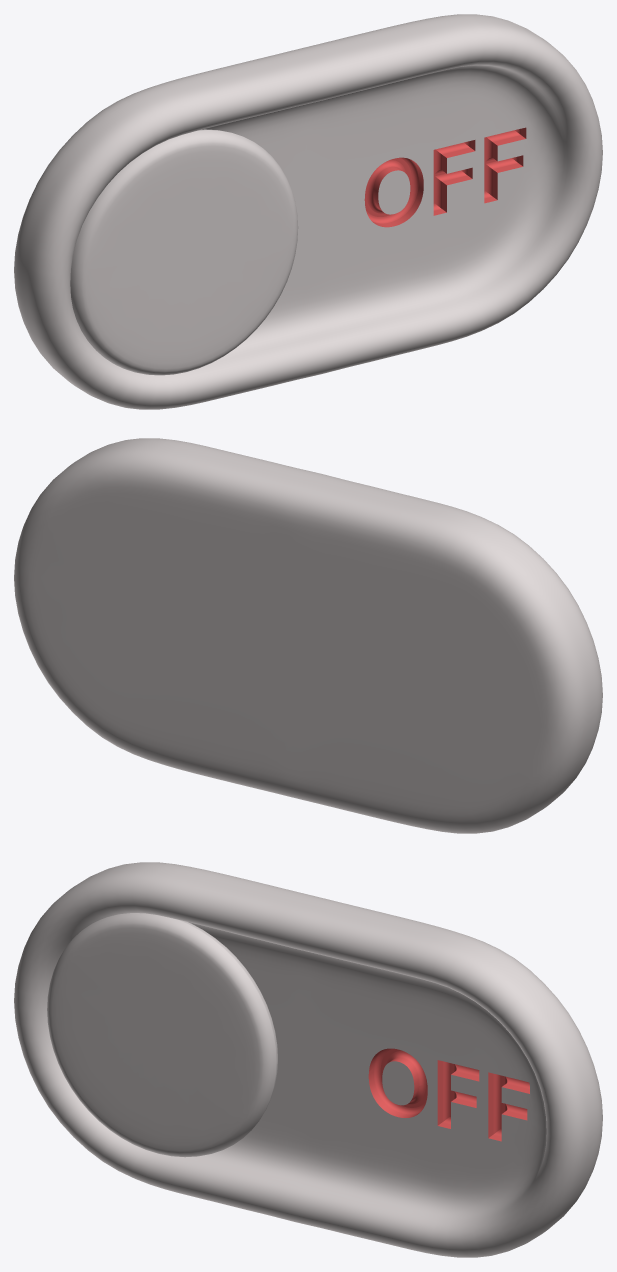
File: switch_button.glb
The picture shows the model from 3 angles, top to bottom: view 1: azimuth 30°, elevation 25°; view 2: azimuth 150°, elevation 25°; view 3: azimuth 330°, elevation 25°; orthographic projection.
Parts seen in each view (by area): view 1: SUPPORT, BOUTON SLIDE, TEXT; view 2: SUPPORT; view 3: SUPPORT, BOUTON SLIDE, TEXT.
Boxes of the visible parts, x1=… form: SUPPORT: x1=14, y1=14, x2=602, y2=409; BOUTON SLIDE: x1=70, y1=129, x2=298, y2=375; TEXT: x1=364, y1=127, x2=526, y2=227; SUPPORT: x1=14, y1=438, x2=602, y2=833; SUPPORT: x1=14, y1=862, x2=602, y2=1257; BOUTON SLIDE: x1=47, y1=913, x2=277, y2=1157; TEXT: x1=368, y1=1048, x2=529, y2=1141.
Size of the model in its own units: 1.77 by 0.9291 by 0.212.
